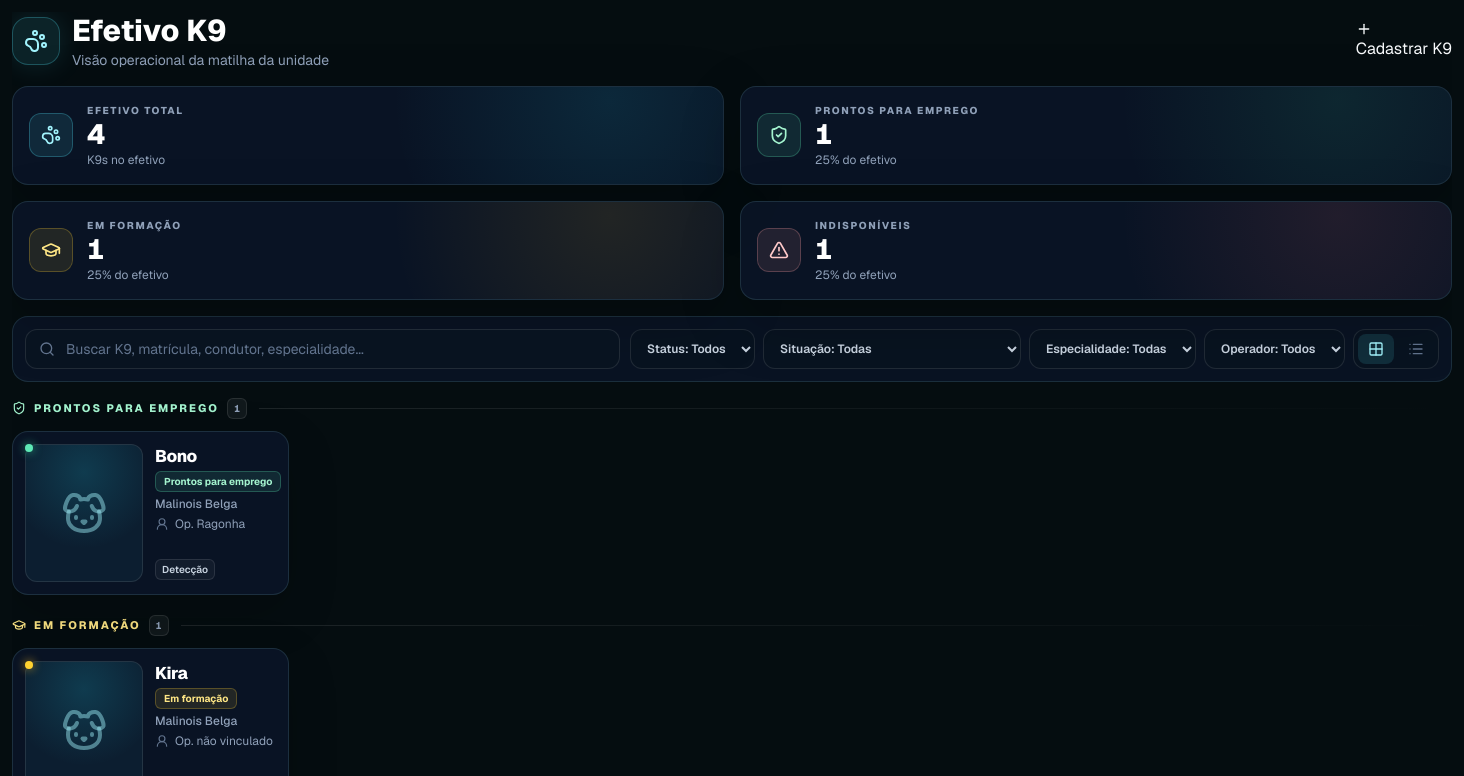
seleção e drawer › fechar limpa a seleção
The image size is (1464, 776).
Step 1. Click the button with aria-label "Bono —" → (84, 512), box [12,430,289,594]
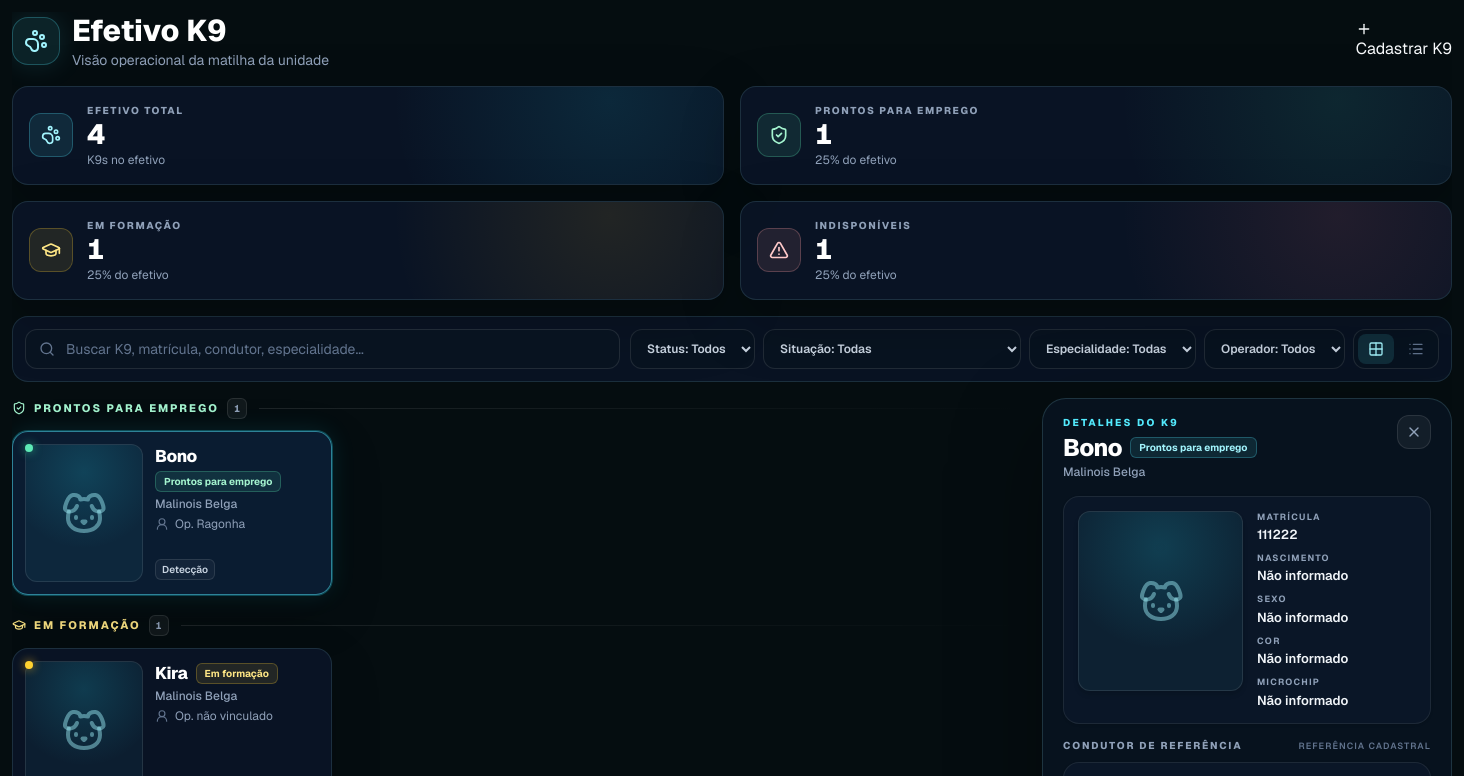
Step 2. Click the button named "Fechar detalhes do K9" → (1414, 432), box [1397,414,1431,448]
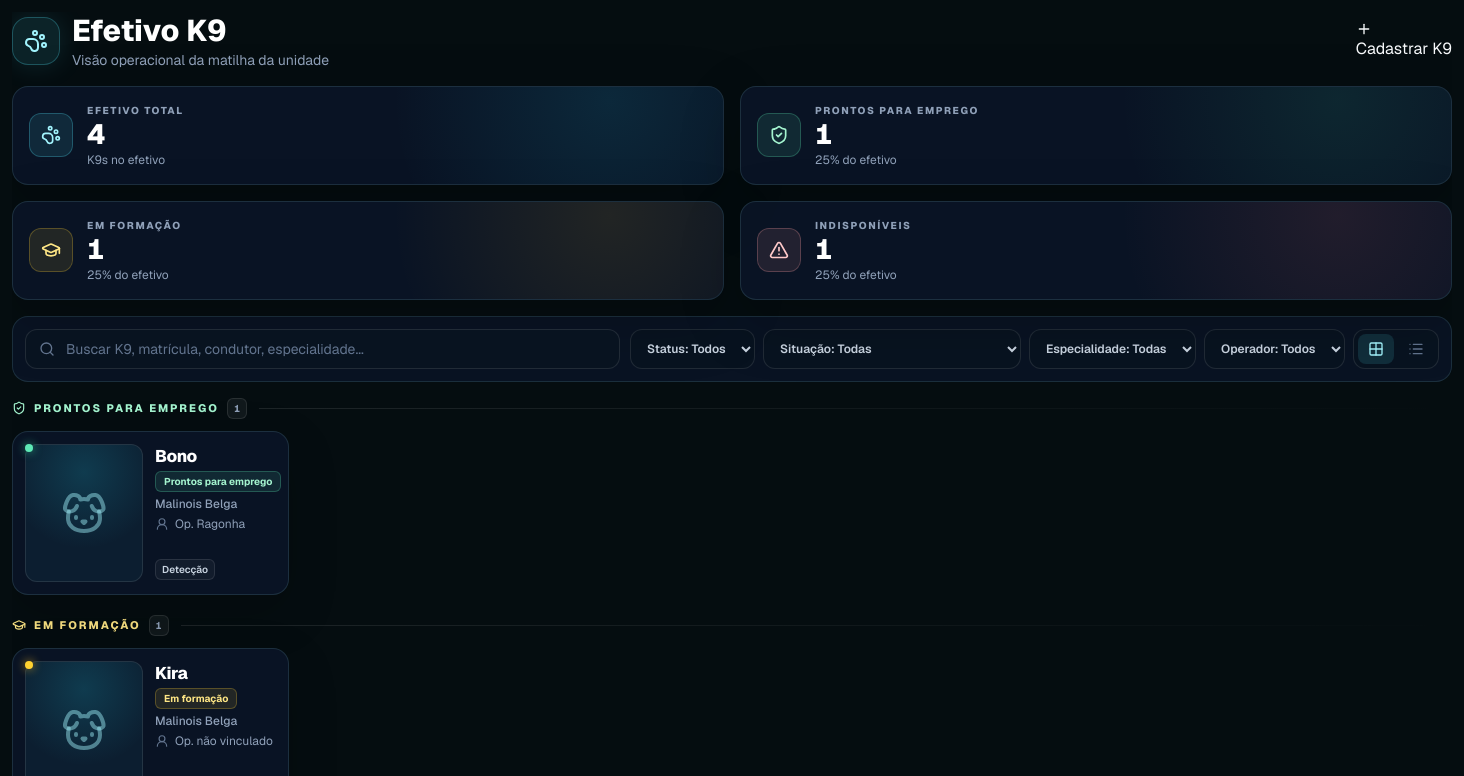
expect the text "Detalhes do K9" is gone: met
